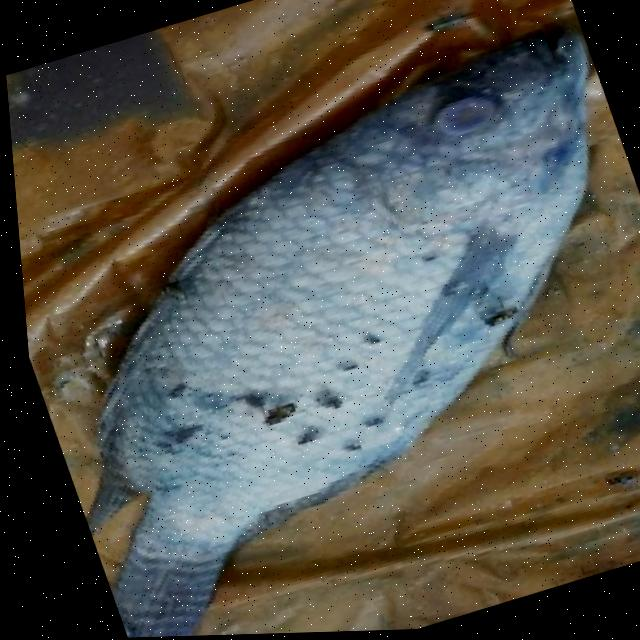Non-Fresh: (5, 57, 640, 640)
